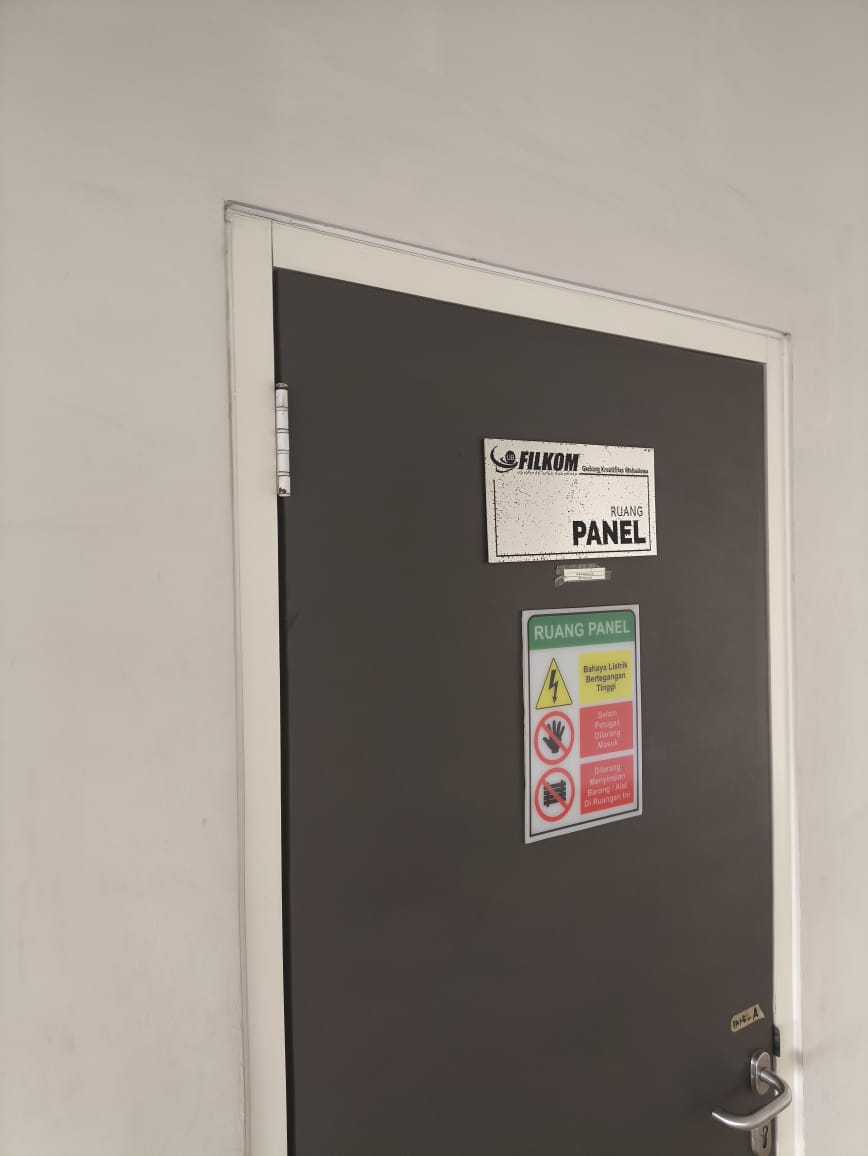ruang panel: (471, 423, 673, 578)
